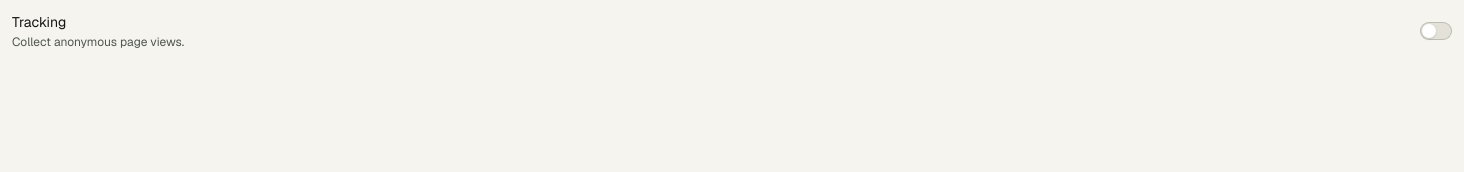
Scenario: Switch › is a labelled switch that toggles on click, Space, and a label click
Expected: the text "Collect anonymous page views." is shown, x1=12 y1=34 x2=184 y2=50
Click the switch named "Tracking": (1436, 31) x1=1420 y1=22 x2=1452 y2=40
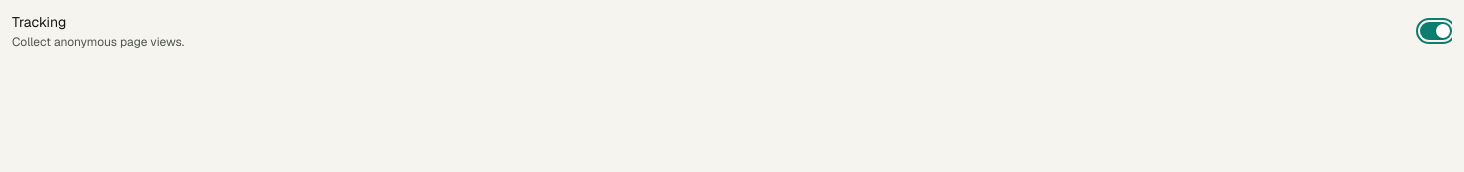
Now the switch named "Tracking" is checked, box x1=1420 y1=22 x2=1452 y2=40
Type keys " "
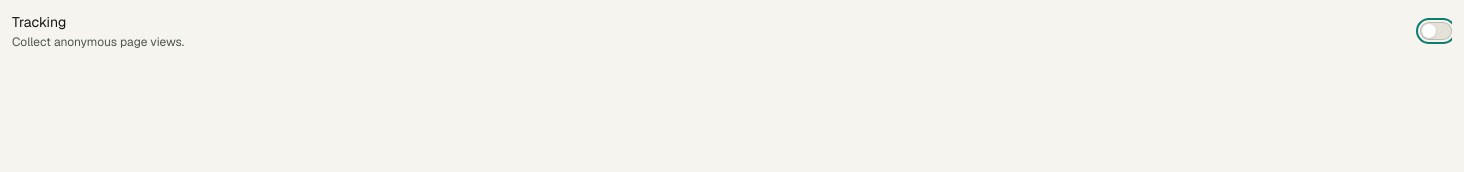
Now the switch named "Tracking" is not checked, box x1=1420 y1=22 x2=1452 y2=40
Click the text "Tracking": (39, 22) x1=12 y1=13 x2=66 y2=31
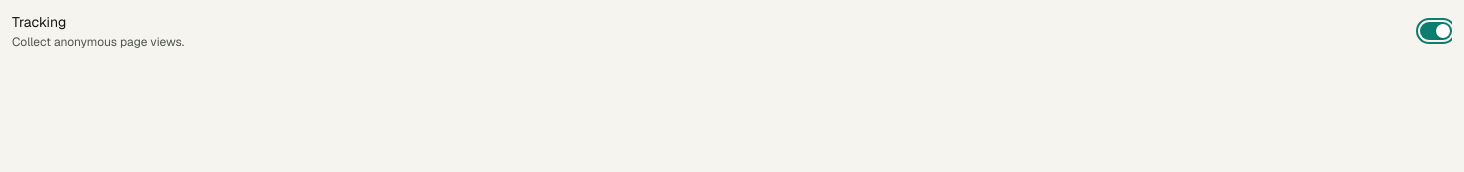
Now the switch named "Tracking" is checked, box x1=1420 y1=22 x2=1452 y2=40
